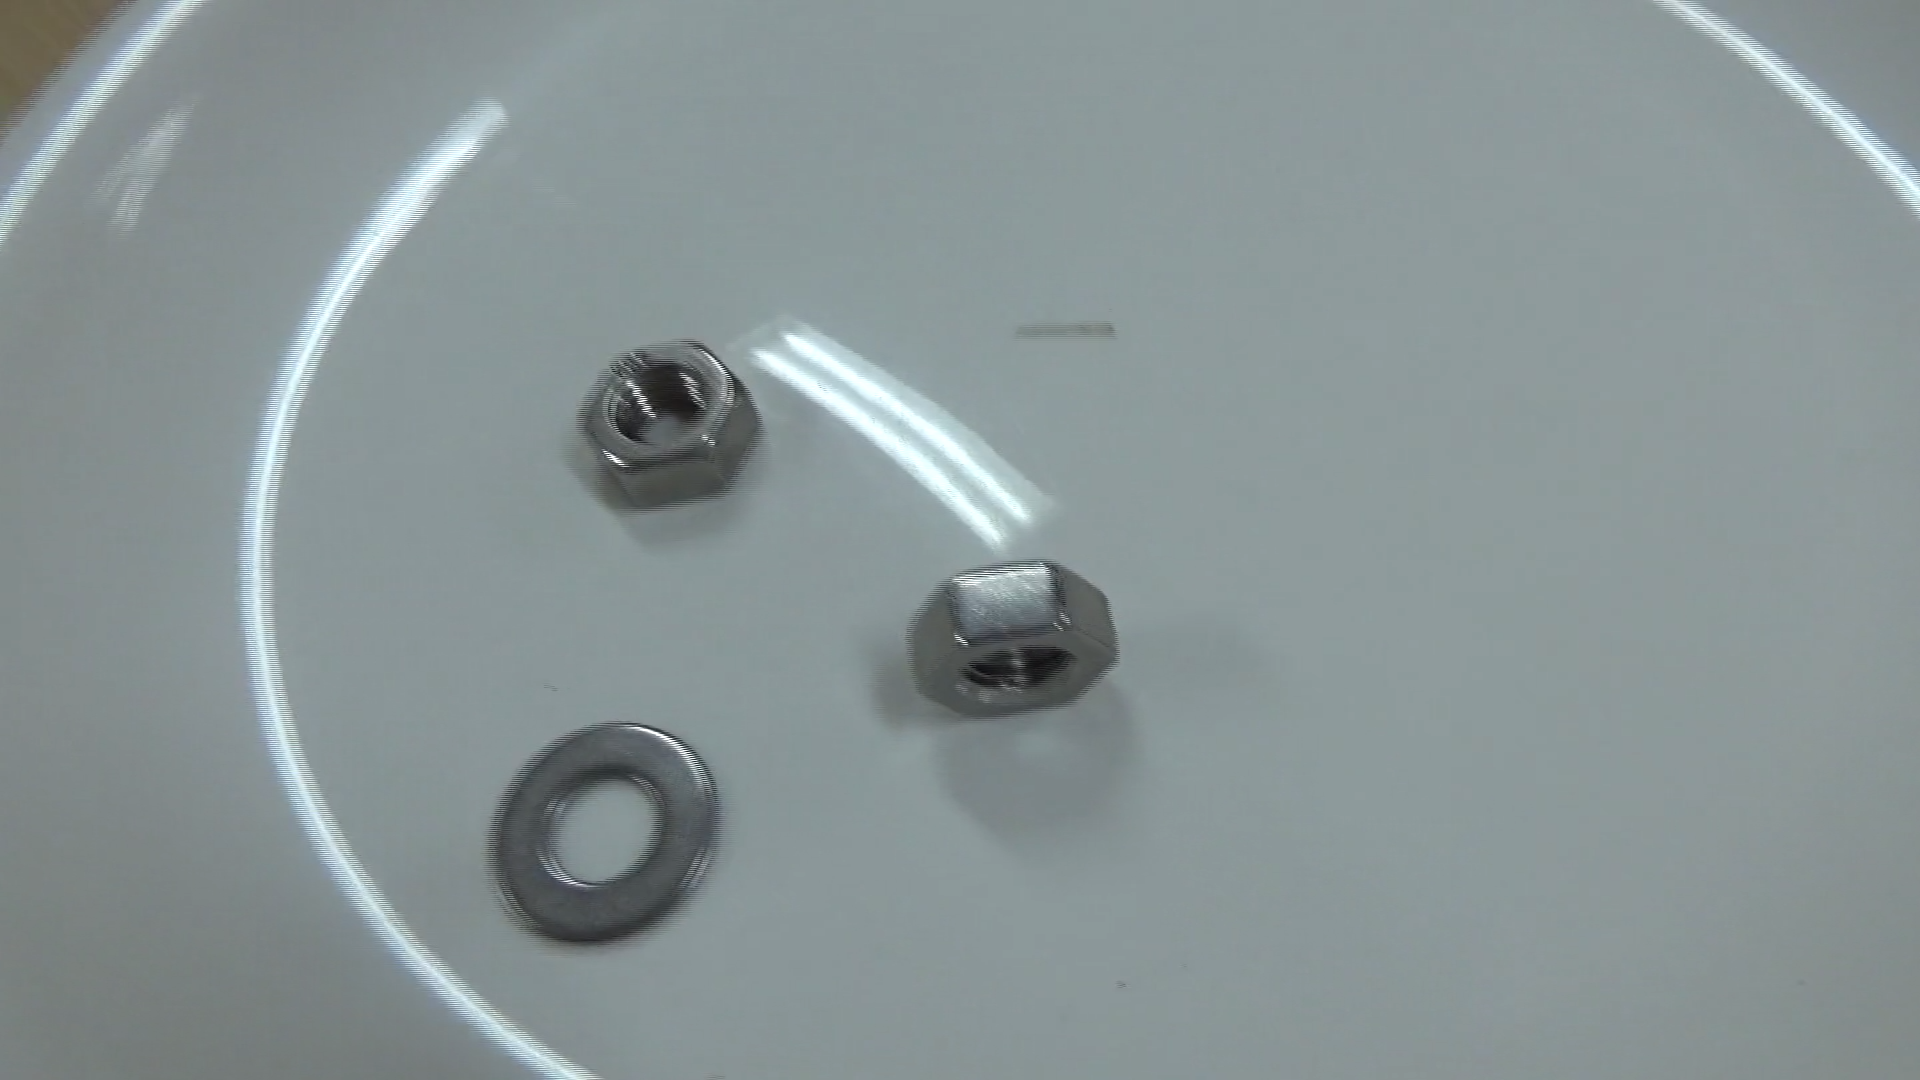nut: (899, 545, 1135, 729), (567, 322, 773, 518)
washer: (473, 703, 735, 953)
